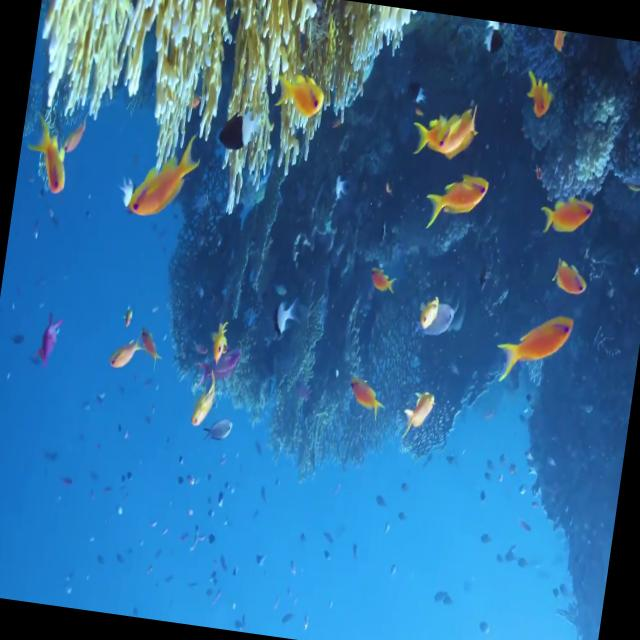fish: (128, 132, 202, 222), (497, 310, 572, 386), (410, 99, 482, 165), (422, 172, 490, 236), (26, 115, 76, 196), (217, 102, 265, 156), (541, 192, 595, 238), (274, 73, 326, 120), (189, 366, 221, 434), (398, 388, 437, 443), (345, 376, 389, 422), (549, 256, 591, 300), (266, 294, 298, 342), (206, 317, 235, 369), (523, 73, 556, 118), (416, 298, 456, 334), (110, 334, 142, 372), (366, 264, 398, 294)
